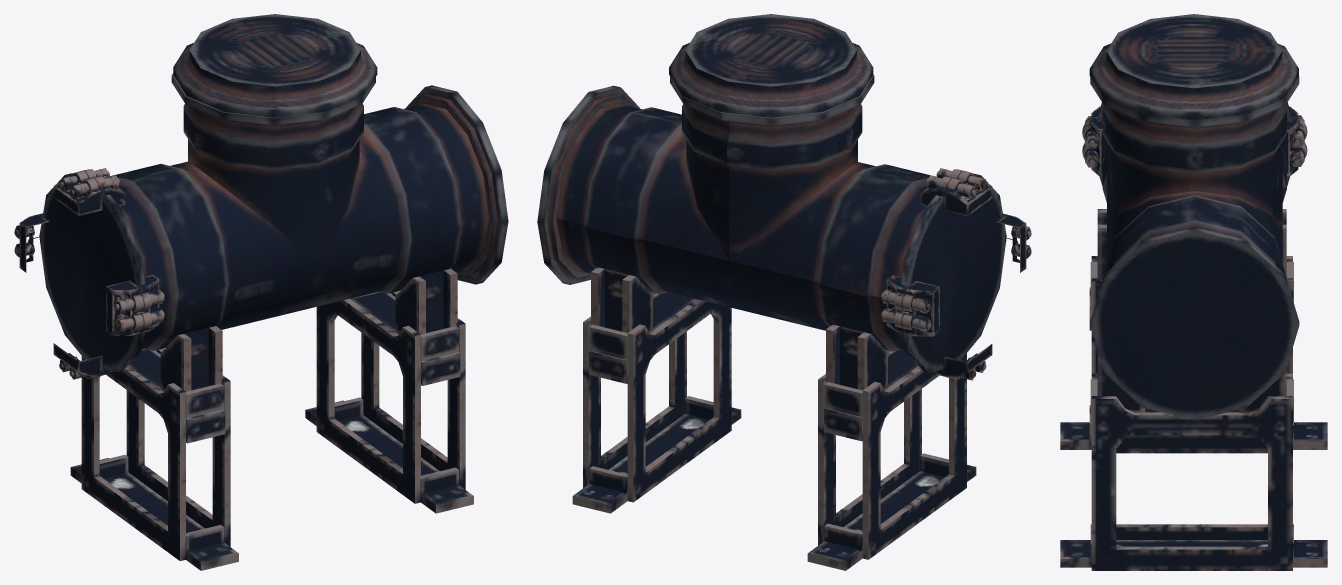
Rendered from pipes-size-3-2.glb.
3 renders of one model, left to right at view 1: azimuth 30°, elevation 25°; view 2: azimuth 150°, elevation 25°; view 3: azimuth 270°, elevation 25°, orthographic. The views are drawn at different scales.
Visible parts, largest first — view 1: Pipe_Large_T_Capped_up_Prefab; view 2: Pipe_Large_T_Capped_up_Prefab; view 3: Pipe_Large_T_Capped_up_Prefab.
Part boxes in pixels (bbox=[...]): Pipe_Large_T_Capped_up_Prefab: bbox=[14, 14, 508, 570]; Pipe_Large_T_Capped_up_Prefab: bbox=[537, 14, 1031, 570]; Pipe_Large_T_Capped_up_Prefab: bbox=[1060, 14, 1327, 570].
Bounding box in the file's own units: 3.24 × 3.47 × 1.87.
1 material, 1 textured.
